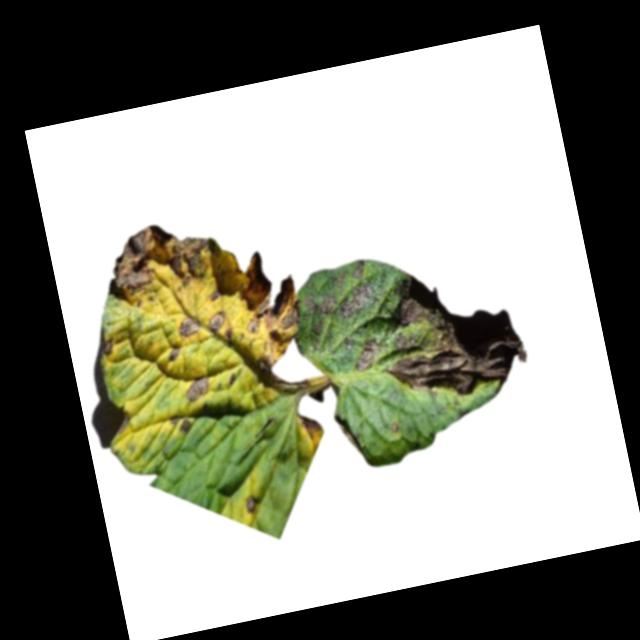Early_blight: (368, 256, 532, 410), (96, 213, 228, 306), (234, 243, 308, 358), (296, 258, 383, 338), (246, 346, 312, 405), (347, 333, 391, 374), (180, 374, 213, 406), (175, 314, 201, 342), (208, 311, 229, 339), (93, 336, 116, 361), (241, 492, 263, 514), (165, 344, 184, 365)
